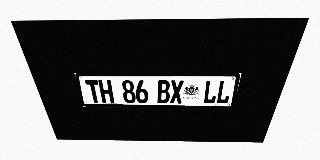6: (135, 80, 149, 103)
8: (121, 80, 136, 103)
B: (157, 80, 170, 103)
H: (98, 80, 114, 103)
L: (216, 80, 233, 104), (203, 80, 219, 104)
T: (85, 80, 102, 103)
X: (170, 80, 184, 103)
